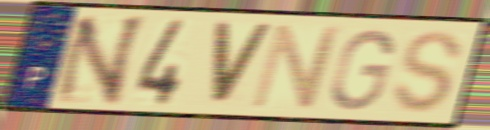4: (133, 16, 187, 109)
G: (327, 27, 397, 113)
N: (49, 13, 152, 107), (247, 22, 346, 111)
S: (390, 28, 467, 116)
V: (210, 19, 276, 109)
